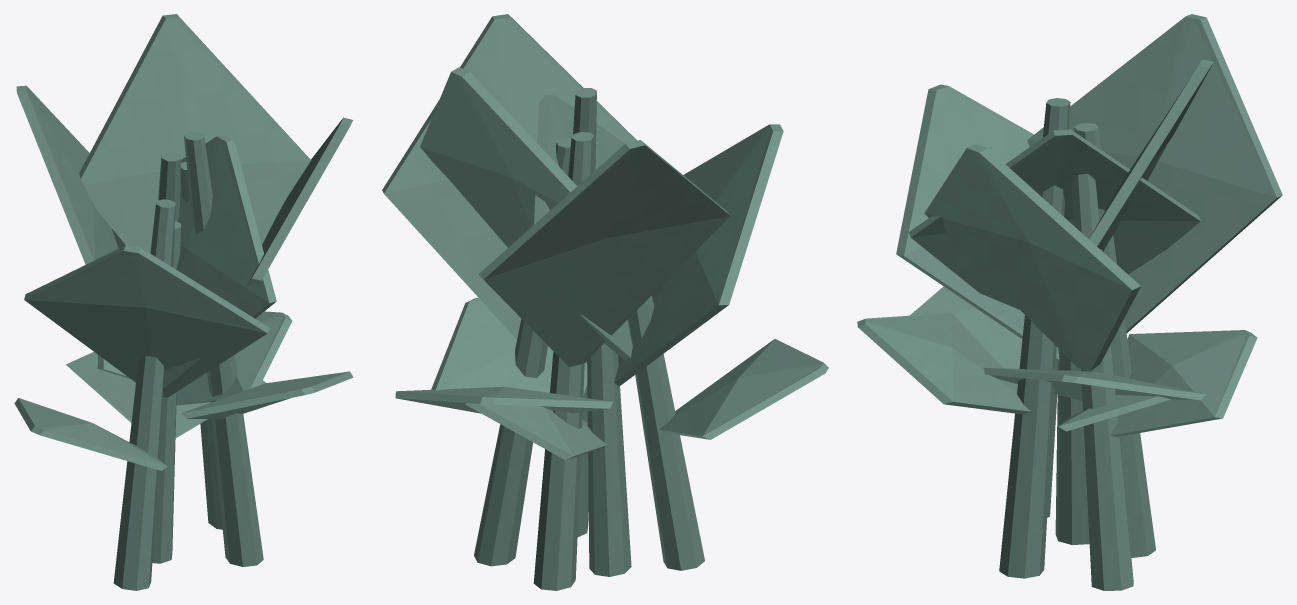
The model's file is P12_atlas_v1.glb.
3 views of the same model, side by side, from view 1: azimuth 30°, elevation 25°; view 2: azimuth 150°, elevation 25°; view 3: azimuth 270°, elevation 25° (orthographic). The views are drawn at different scales.
Visible parts, largest first — view 1: P12_PlantCluster; view 2: P12_PlantCluster; view 3: P12_PlantCluster.
Boxes of the visible parts, <box> form: P12_PlantCluster: <box>14,14,353,590</box>; P12_PlantCluster: <box>382,14,828,590</box>; P12_PlantCluster: <box>857,14,1282,590</box>.
Size of the model in its own units: 3 by 4 by 3.
1 material, 1 textured.
